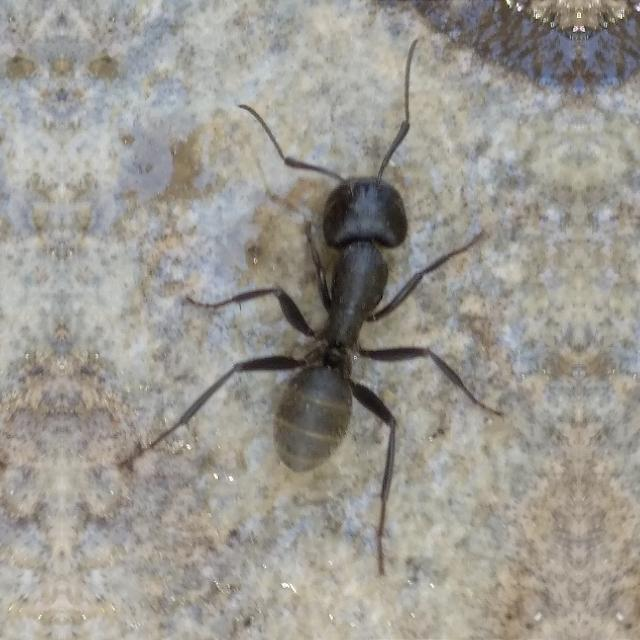Camponotus: (204, 116, 463, 522)
